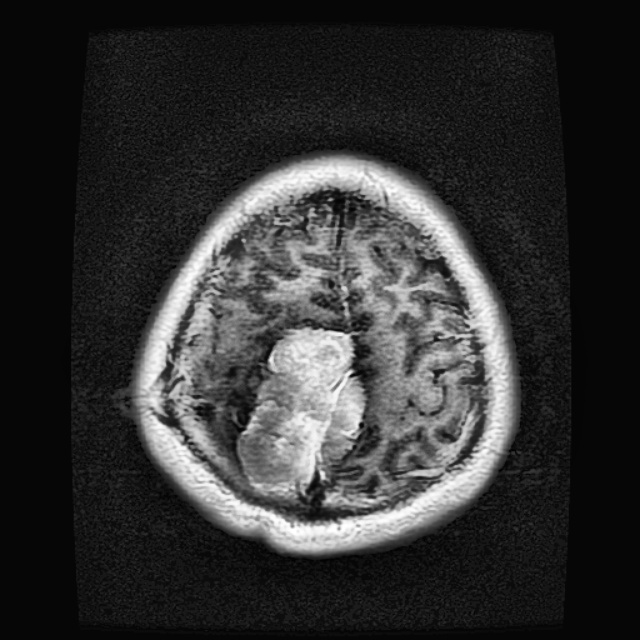Pituitary: (235, 327, 365, 494)
